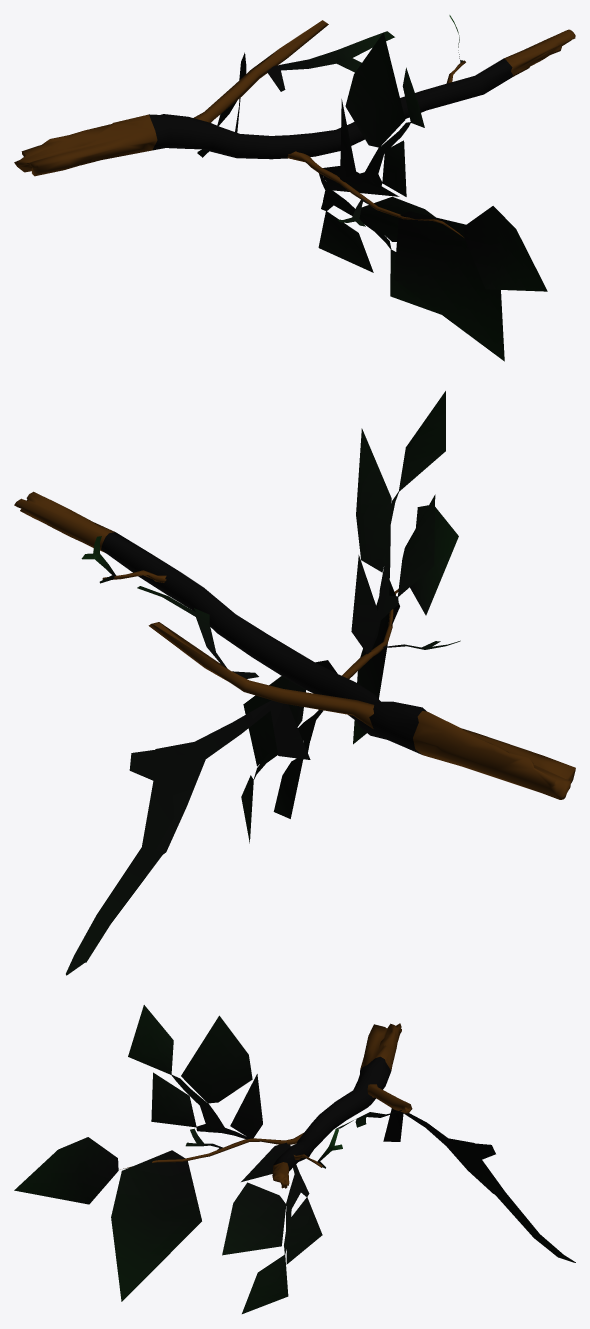
Rendered from beech_dry_bough_01.FBX.
The picture shows the model from 3 angles, top to bottom: view 1: azimuth 30°, elevation 25°; view 2: azimuth 150°, elevation 25°; view 3: azimuth 270°, elevation 25°; orthographic projection. The views are drawn at different scales.
Visible parts, largest first — view 1: beech_dry_bough_leaves_01_LOD0, beech_dry_bough_branch_01_LOD0; view 2: beech_dry_bough_leaves_01_LOD0, beech_dry_bough_branch_01_LOD0; view 3: beech_dry_bough_leaves_01_LOD0, beech_dry_bough_branch_01_LOD0.
Part boxes in pixels (x1,y1,x2,y2): beech_dry_bough_leaves_01_LOD0: [197, 15, 547, 361]; beech_dry_bough_branch_01_LOD0: [14, 20, 575, 237]; beech_dry_bough_leaves_01_LOD0: [66, 391, 460, 975]; beech_dry_bough_branch_01_LOD0: [14, 491, 575, 799]; beech_dry_bough_leaves_01_LOD0: [14, 1005, 575, 1313]; beech_dry_bough_branch_01_LOD0: [120, 1023, 412, 1188].
Size of what is drawn, in the model's own units: 7827 by 4770 by 9014.
